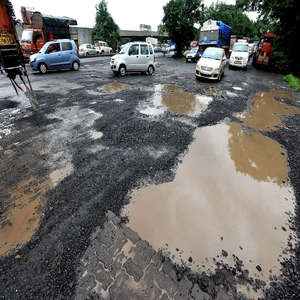pothole: (117, 117, 300, 283), (232, 87, 300, 128), (138, 91, 213, 122)
